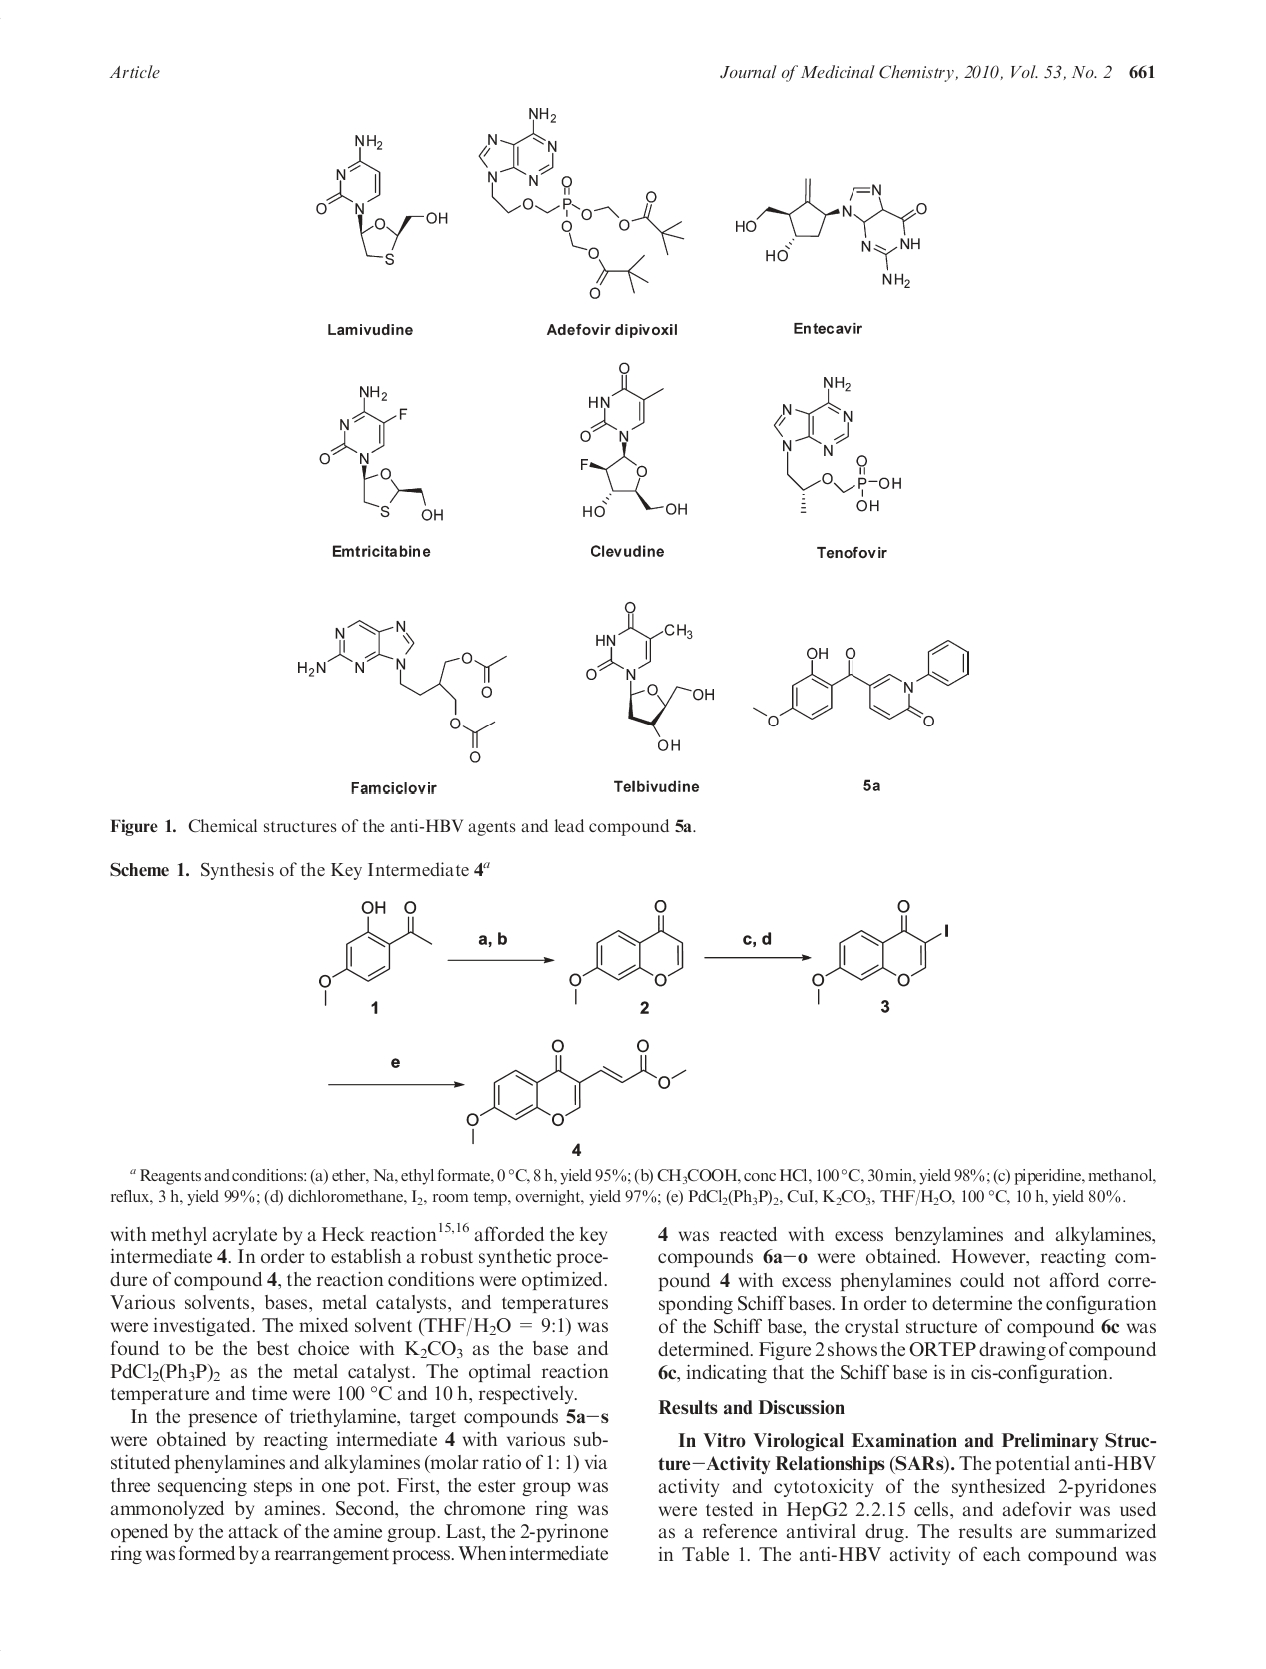exist_molecular: (477, 105, 686, 301), (297, 617, 511, 765), (464, 1037, 688, 1145), (731, 174, 930, 291), (584, 601, 717, 753), (751, 638, 971, 730), (773, 372, 903, 519), (314, 132, 449, 267), (318, 383, 445, 523), (577, 363, 689, 520), (811, 896, 951, 1005), (567, 896, 686, 1007), (316, 900, 435, 1007)
